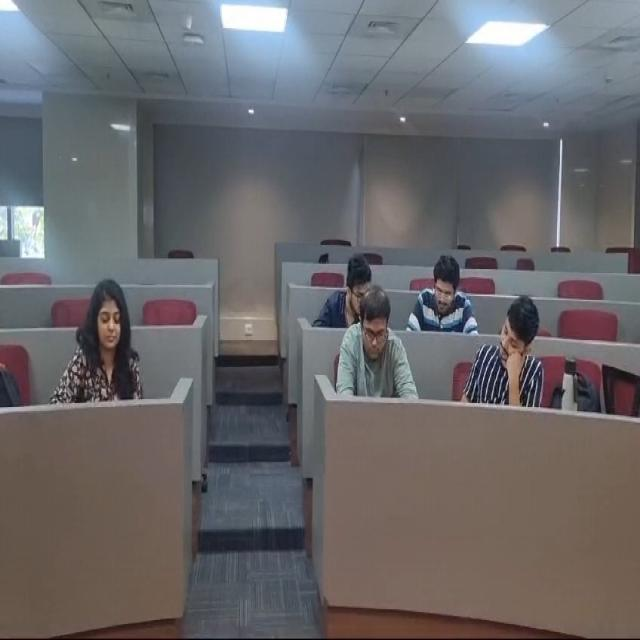cheating: (476, 287, 546, 415), (319, 246, 375, 330)
non-cheating: (59, 279, 143, 407), (335, 277, 418, 406), (402, 256, 476, 331)
